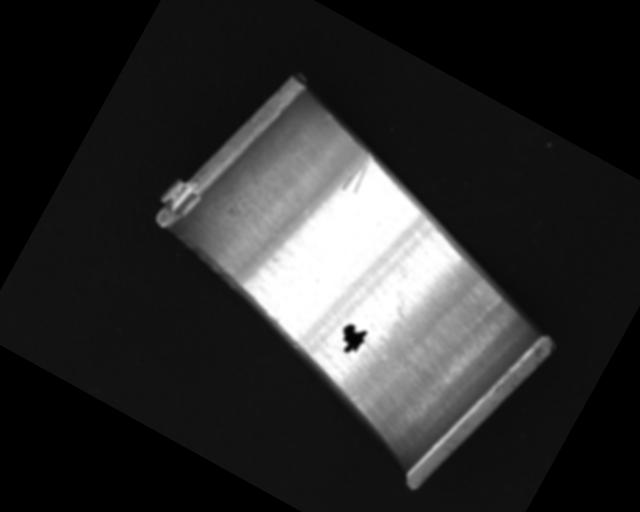blot: (332, 318, 372, 359)
nick: (339, 148, 377, 197), (319, 110, 332, 127)
